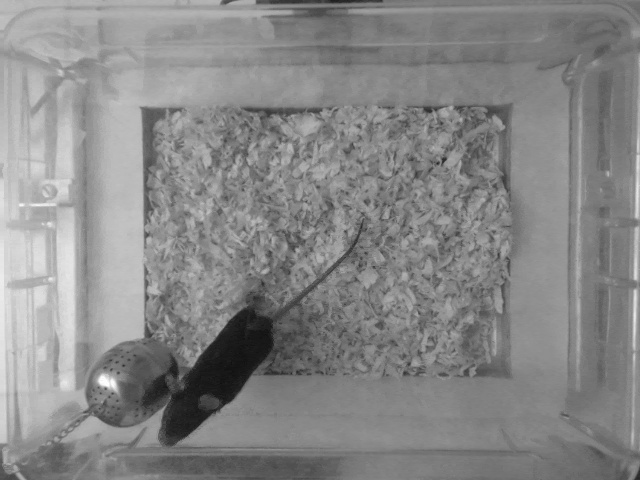mice: (154, 216, 372, 452)
